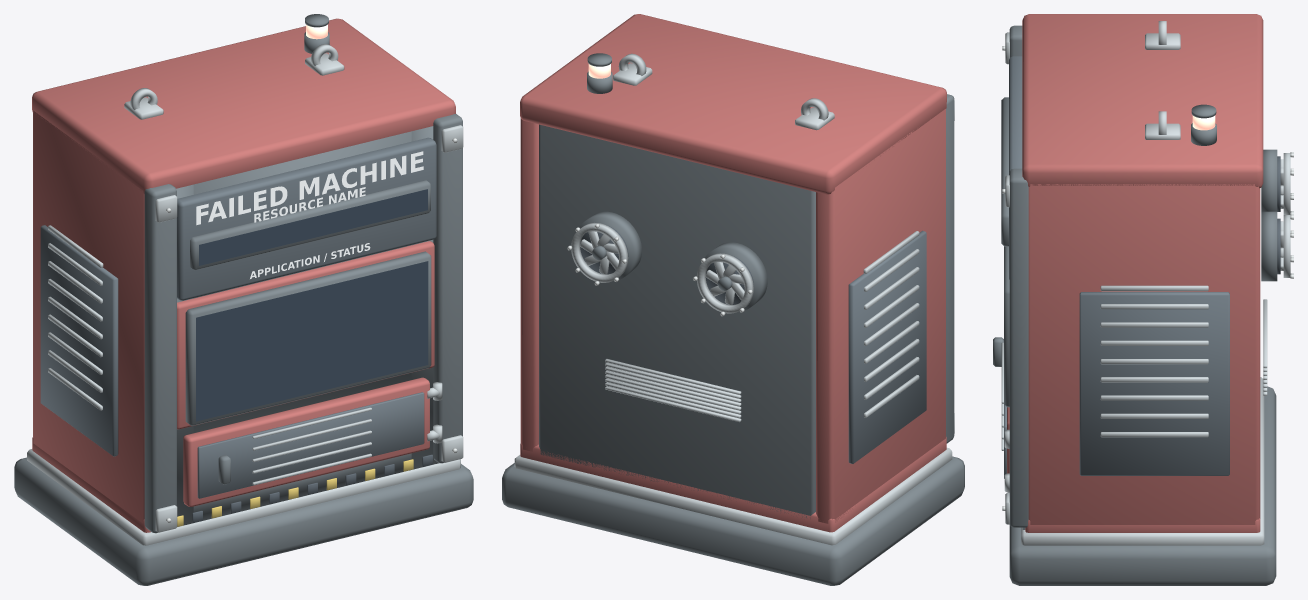
The model's file is failed_machine_ultra.glb.
3 renders of one model, left to right at view 1: azimuth 30°, elevation 25°; view 2: azimuth 150°, elevation 25°; view 3: azimuth 270°, elevation 25°, orthographic. The views are drawn at different scales.
Visible parts, largest first — view 1: Roof_darkred, LiveViewSurface_glass, SideWall_darkred, Skid_frame, CornerPost_frame, FrontHeader_graphite, SideServicePanel_graphite, DoorMoving_Inset_graphite, DoorMoving_Panel_darkred, SkidDeck_steel, LiveViewSurfaceFrame_frame, ResourceNameSurface_glass (+15 smaller); view 2: BackWall_frame, Roof_darkred, SideWall_darkred, Skid_frame, SideServicePanel_graphite, SkidDeck_steel, KickPlate_darkred, RearFan_steel, RearVent_steel, SideLouver_steel, CornerPost_frame, RearFan_frame (+3 smaller); view 3: SideWall_darkred, Roof_darkred, SideServicePanel_graphite, Skid_frame, CornerPost_frame, SideLouver_steel, SkidDeck_steel, RearFan_frame, KickPlate_darkred, FrontHeader_graphite, RearFan_steel, ResourceNameSurfaceFrame_frame (+7 smaller).
Boxes of the visible parts, x1=… form: Roof_darkred: x1=32, y1=18, x2=455, y2=194; LiveViewSurface_glass: x1=196, y1=261, x2=428, y2=421; SideWall_darkred: x1=33, y1=110, x2=144, y2=523; Skid_frame: x1=14, y1=457, x2=473, y2=585; CornerPost_frame: x1=144, y1=114, x2=462, y2=533; FrontHeader_graphite: x1=177, y1=137, x2=436, y2=300; SideServicePanel_graphite: x1=40, y1=225, x2=118, y2=456; DoorMoving_Inset_graphite: x1=197, y1=392, x2=424, y2=498; DoorMoving_Panel_darkred: x1=183, y1=377, x2=429, y2=506; SkidDeck_steel: x1=27, y1=449, x2=460, y2=545; LiveViewSurfaceFrame_frame: x1=185, y1=251, x2=431, y2=425; ResourceNameSurface_glass: x1=199, y1=189, x2=427, y2=265; BackWall_frame: x1=539, y1=124, x2=815, y2=518; Roof_darkred: x1=520, y1=14, x2=946, y2=194; SideWall_darkred: x1=520, y1=109, x2=945, y2=523; Skid_frame: x1=502, y1=456, x2=964, y2=585; SideServicePanel_graphite: x1=848, y1=230, x2=926, y2=463; SkidDeck_steel: x1=514, y1=447, x2=952, y2=545; KickPlate_darkred: x1=520, y1=437, x2=946, y2=532; RearFan_steel: x1=571, y1=222, x2=753, y2=313; RearVent_steel: x1=605, y1=359, x2=741, y2=422; SideLouver_steel: x1=863, y1=231, x2=919, y2=417; CornerPost_frame: x1=946, y1=94, x2=954, y2=443; RearFan_frame: x1=579, y1=211, x2=767, y2=311; SideWall_darkred: x1=1028, y1=184, x2=1260, y2=524; Roof_darkred: x1=1022, y1=14, x2=1263, y2=188; SideServicePanel_graphite: x1=1079, y1=292, x2=1229, y2=475; Skid_frame: x1=1009, y1=386, x2=1276, y2=585; CornerPost_frame: x1=1009, y1=25, x2=1028, y2=527; SideLouver_steel: x1=1100, y1=285, x2=1208, y2=437; SkidDeck_steel: x1=1021, y1=377, x2=1264, y2=545; RearFan_frame: x1=1261, y1=149, x2=1277, y2=281; KickPlate_darkred: x1=1025, y1=518, x2=1260, y2=532; FrontHeader_graphite: x1=1009, y1=56, x2=1022, y2=279; RearFan_steel: x1=1280, y1=153, x2=1290, y2=277; ResourceNameSurfaceFrame_frame: x1=1001, y1=97, x2=1008, y2=246.
Size of the model in its own units: 2 by 2.48 by 1.51.
